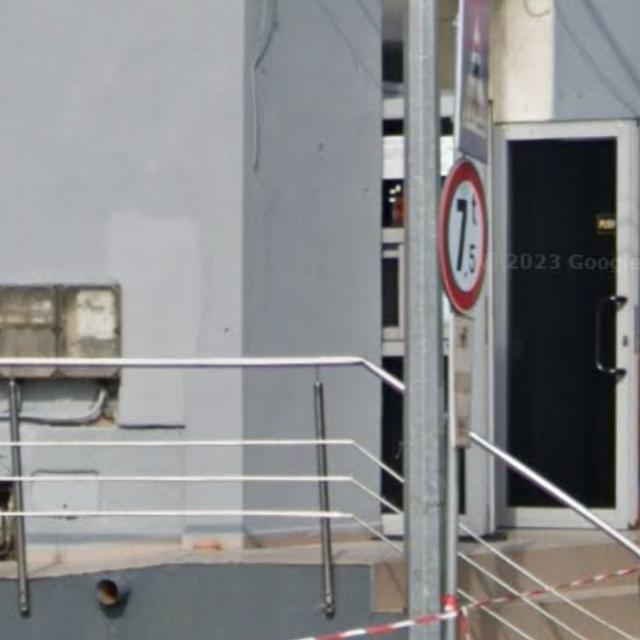forb_weight_over_7.5t: (438, 160, 490, 312)
